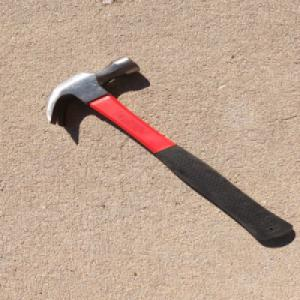Hammer: (42, 55, 295, 242)
